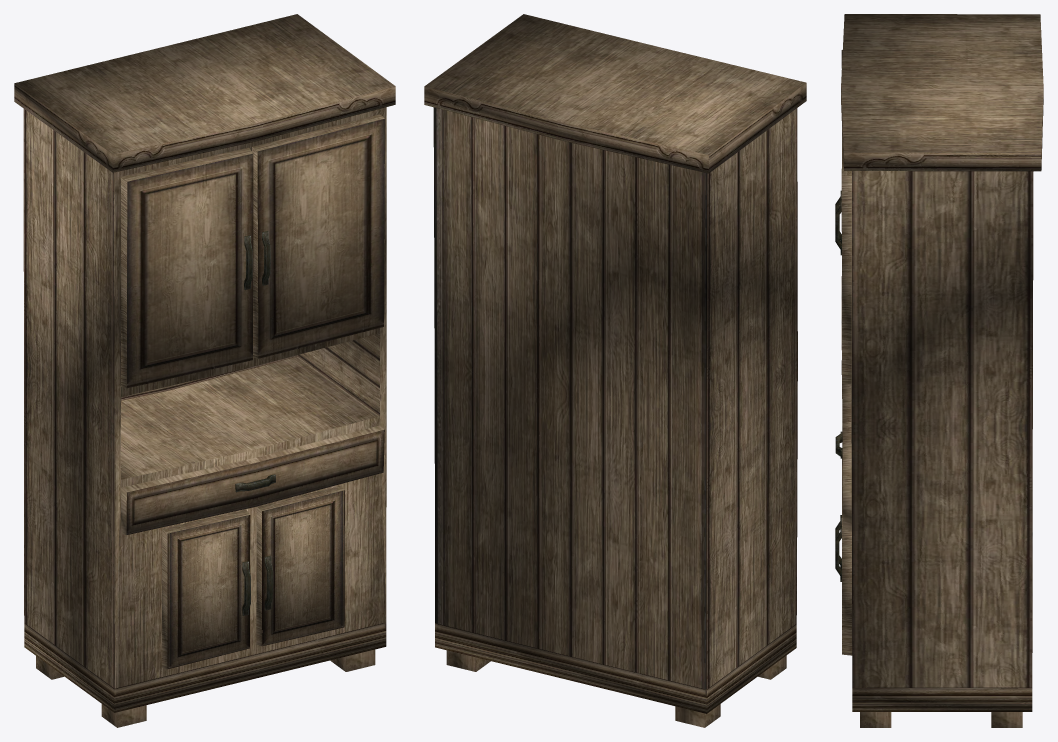
File: GS_VOB_WARDROBE_YELLOW_01_KOZA.glb
3 views of the same model, side by side, from view 1: azimuth 30°, elevation 25°; view 2: azimuth 150°, elevation 25°; view 3: azimuth 270°, elevation 25° (orthographic).
Parts seen in each view (by area): view 1: Mesh; view 2: Mesh; view 3: Mesh.
Part boxes in pixels (box(x1,y1,x2,y2)): Mesh: box(14, 14, 395, 727); Mesh: box(424, 14, 806, 727); Mesh: box(835, 14, 1043, 727).
Bounding box in the file's own units: 1.48 × 2.91 × 0.9415.
3 materials, 3 textured.
